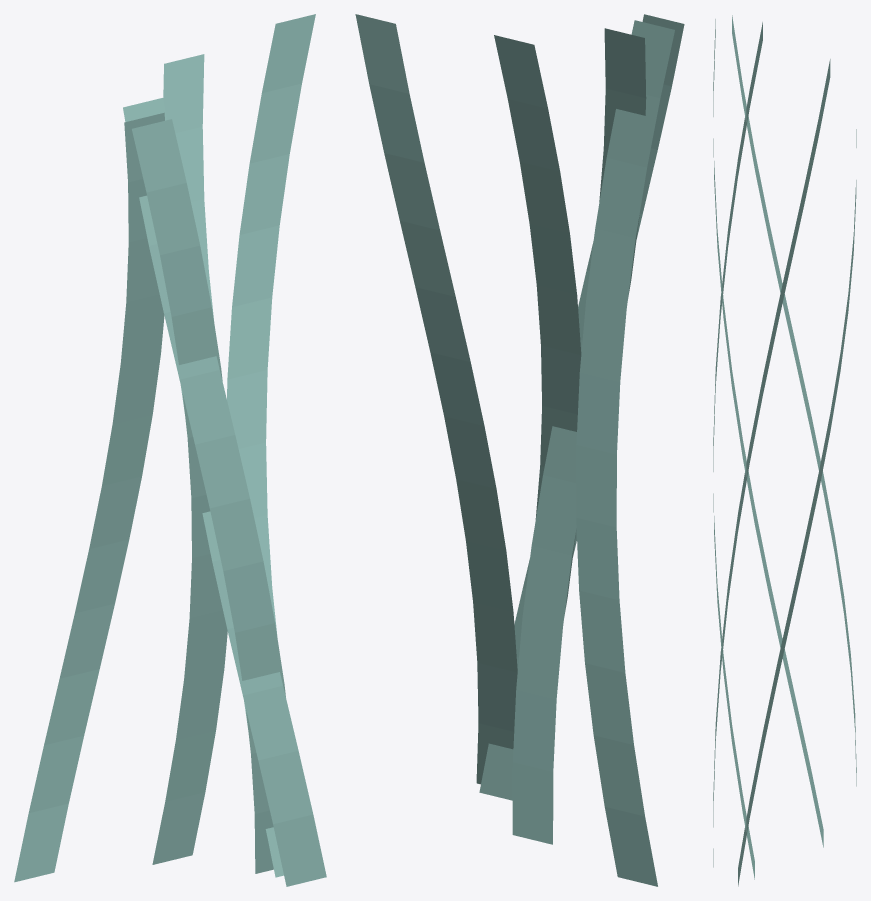
The model's file is abstract-vegetation.glb.
3 views of the same model, side by side, from view 1: azimuth 30°, elevation 25°; view 2: azimuth 150°, elevation 25°; view 3: azimuth 270°, elevation 25° (orthographic). The views are drawn at different scales.
Visible parts, largest first — view 1: LMW_Ribbon_0, LMW_Ribbon_1, LMW_Ribbon_4, LMW_Ribbon_2, LMW_Ribbon_3; view 2: LMW_Ribbon_0, LMW_Ribbon_4, LMW_Ribbon_1, LMW_Ribbon_3, LMW_Ribbon_2; view 3: LMW_Ribbon_0, LMW_Ribbon_3, LMW_Ribbon_4, LMW_Ribbon_1, LMW_Ribbon_2.
Part boxes in pixels (<box>): LMW_Ribbon_0: <box>14,112,164,882</box>; LMW_Ribbon_1: <box>132,119,227,864</box>; LMW_Ribbon_4: <box>227,14,315,877</box>; LMW_Ribbon_2: <box>123,98,285,873</box>; LMW_Ribbon_3: <box>163,54,326,886</box>; LMW_Ribbon_0: <box>576,20,674,886</box>; LMW_Ribbon_4: <box>355,14,517,784</box>; LMW_Ribbon_1: <box>512,14,684,844</box>; LMW_Ribbon_3: <box>494,35,581,613</box>; LMW_Ribbon_2: <box>479,28,646,800</box>; LMW_Ribbon_0: <box>732,15,856,786</box>; LMW_Ribbon_3: <box>713,59,830,867</box>; LMW_Ribbon_4: <box>738,129,856,886</box>; LMW_Ribbon_1: <box>713,19,823,847</box>; LMW_Ribbon_2: <box>713,22,762,879</box>.
Size of the model in its own units: 1.05 by 2.64 by 0.4396.
